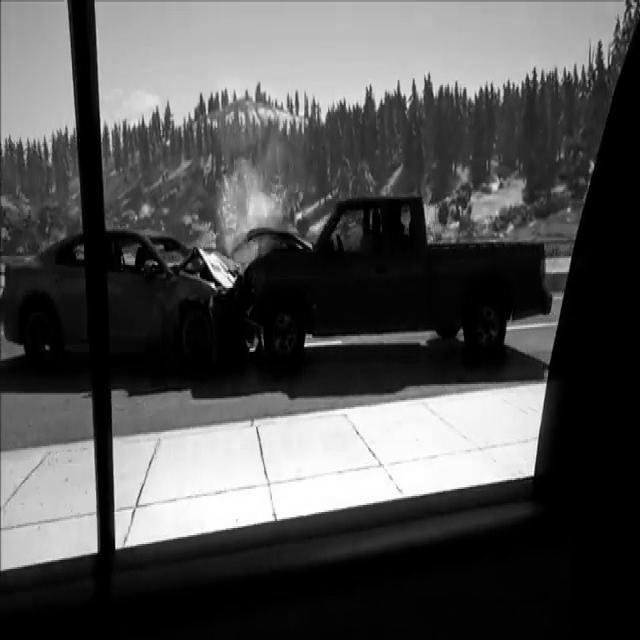vehicle: (235, 204, 575, 372), (0, 208, 265, 418)
